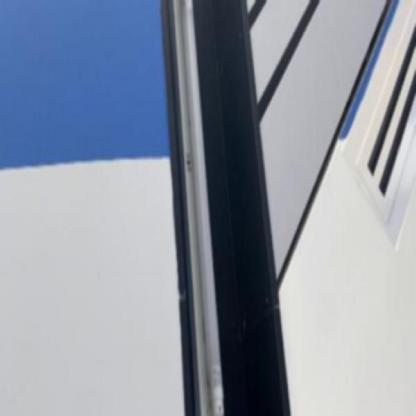light_off: (158, 0, 239, 415)
